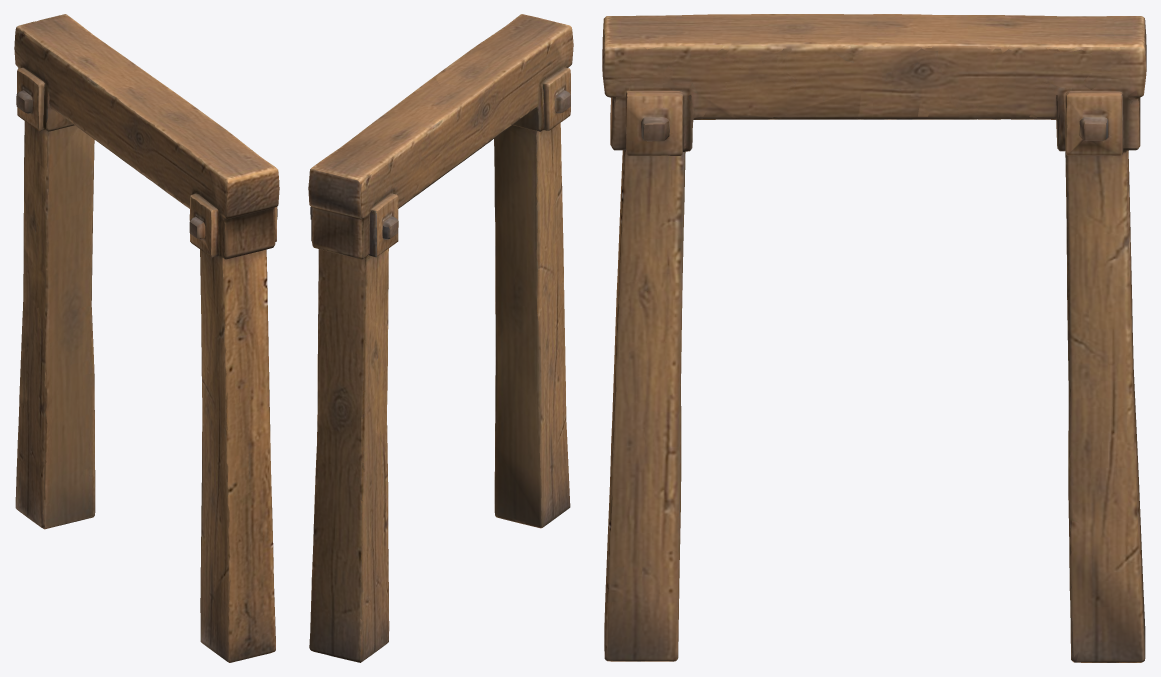
3 renders of one model, left to right at view 1: azimuth 30°, elevation 25°; view 2: azimuth 150°, elevation 25°; view 3: azimuth 270°, elevation 25°, orthographic. The views are drawn at different scales.
Parts seen in each view (by area): view 1: geometry_0; view 2: geometry_0; view 3: geometry_0.
Part boxes in pixels (box(x1,y1,x2,y2)): geometry_0: box(14, 14, 279, 662); geometry_0: box(308, 14, 573, 662); geometry_0: box(602, 14, 1146, 662).
Size of the model in its own units: 0.1566 by 0.9 by 0.7172.
1 material, 1 textured.
